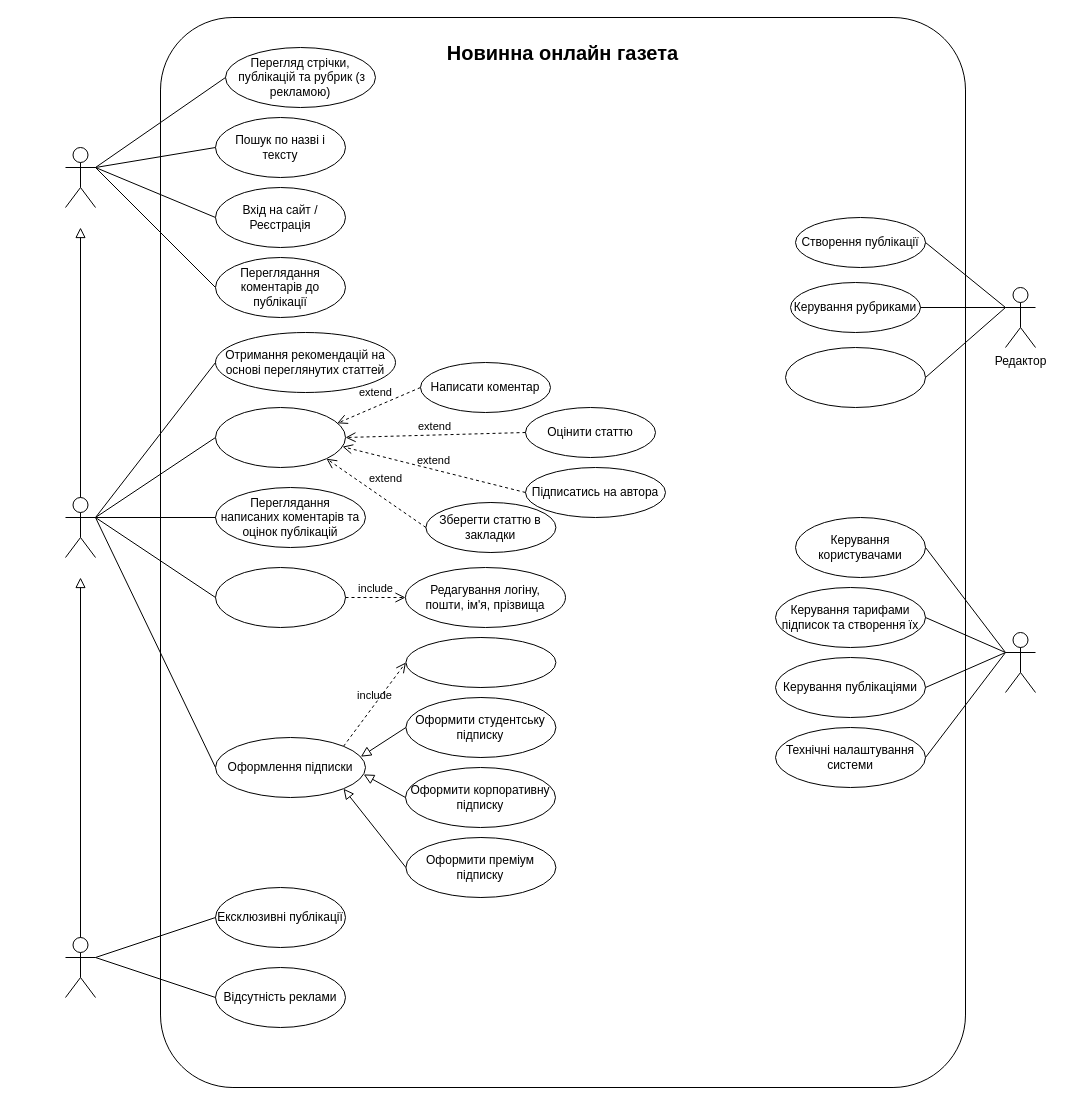
The diagram is 1077 pixels wide and 1105 high, and some of its shapes have lost their labels. Each missing label, with the centre of its shape:
"Адміністратор" belongs at (x=1020, y=662).
"Взаємодія з публікацією" belongs at (x=280, y=437).
"Гість" belongs at (x=80, y=177).
"Зареєстрований читач" belongs at (x=80, y=527).
"Керувати налаштуваннями профілю" belongs at (x=280, y=597).
"Надсилання термінових сповіщень" belongs at (x=855, y=377).
"Платний читач" belongs at (x=80, y=967).
"Проведення оплати" belongs at (x=480, y=662).
